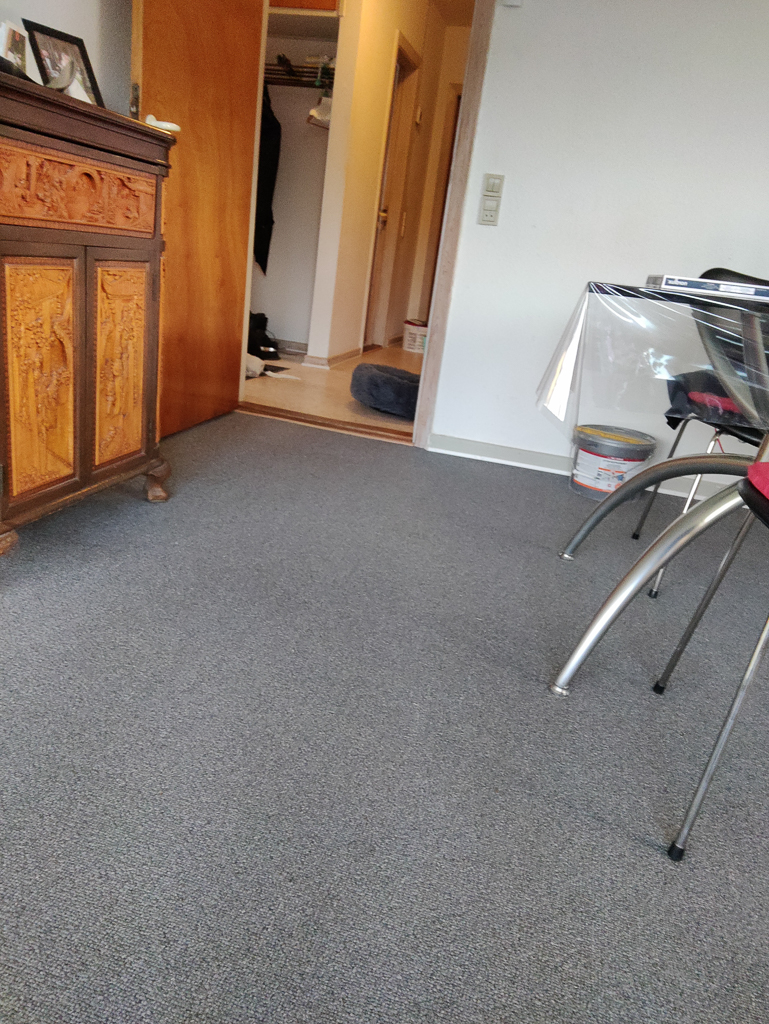Dog: (241, 307, 307, 389)
